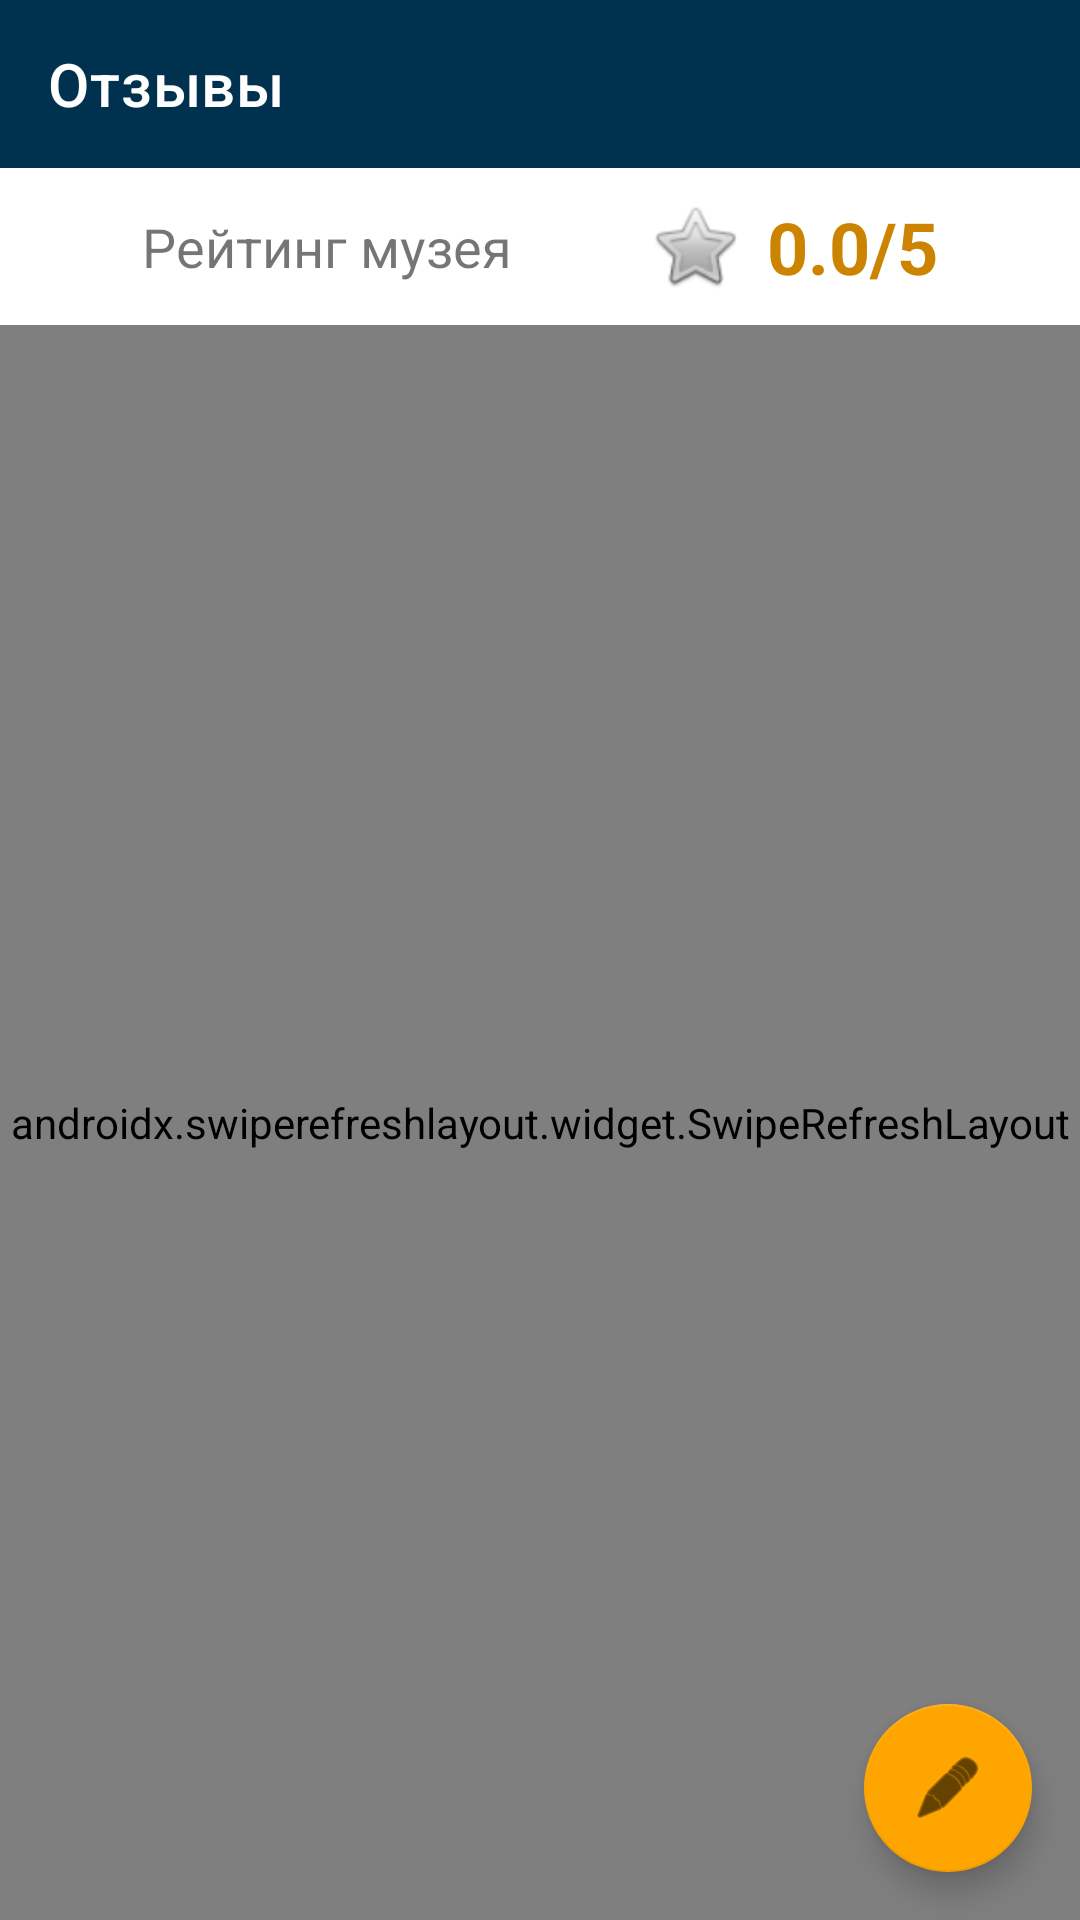

Named icons in this screenshot (1080px×1920px) and their bounding boxes, box(x1, y1, x2, y2):
edit: box(864, 1704, 1032, 1872)
star off: box(656, 208, 736, 286)
